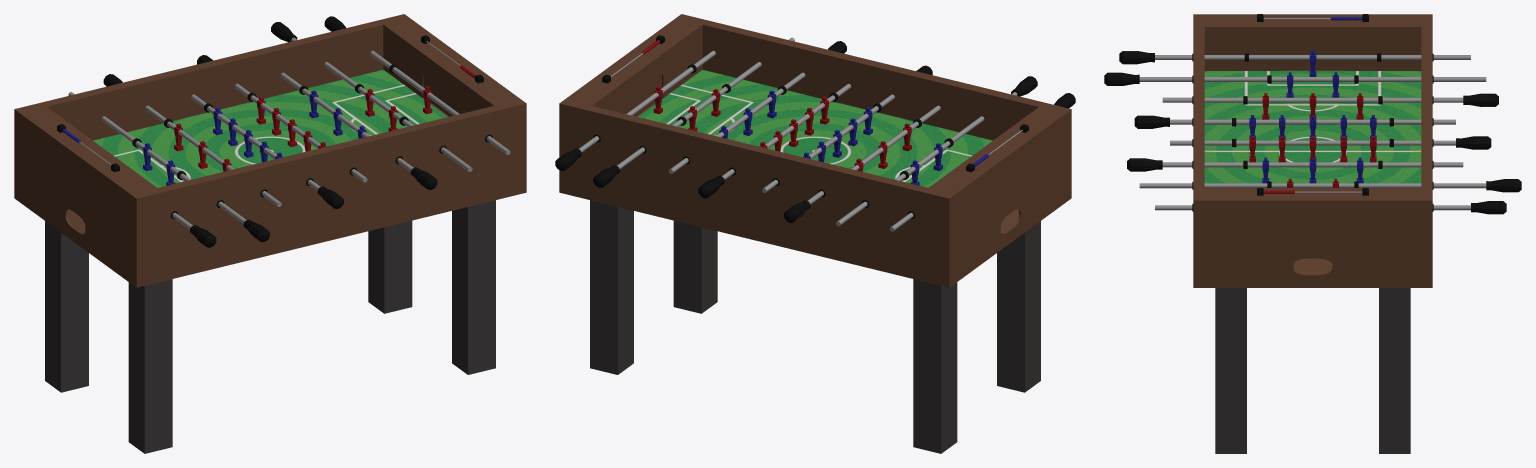
Rendered from Calcetto.fbx.
The picture shows the model from 3 angles, left to right: view 1: azimuth 30°, elevation 25°; view 2: azimuth 150°, elevation 25°; view 3: azimuth 270°, elevation 25°; orthographic projection. The views are drawn at different scales.
Visible parts, largest first — view 1: Calcetto; view 2: Calcetto; view 3: Calcetto.
Part boxes in pixels (<box>): Calcetto: <box>14,14,526,453</box>; Calcetto: <box>555,14,1075,453</box>; Calcetto: <box>1104,14,1521,453</box>.
Bounding box in the file's own units: 1.4 × 0.9393 × 1.33.
